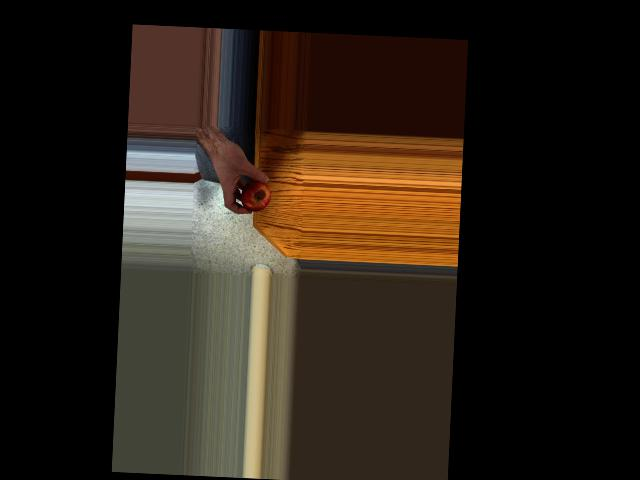apple: (238, 175, 271, 213)
